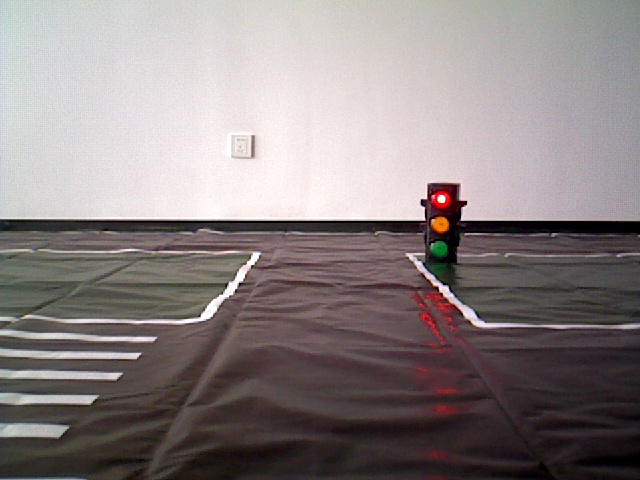red: (426, 189, 454, 260)
